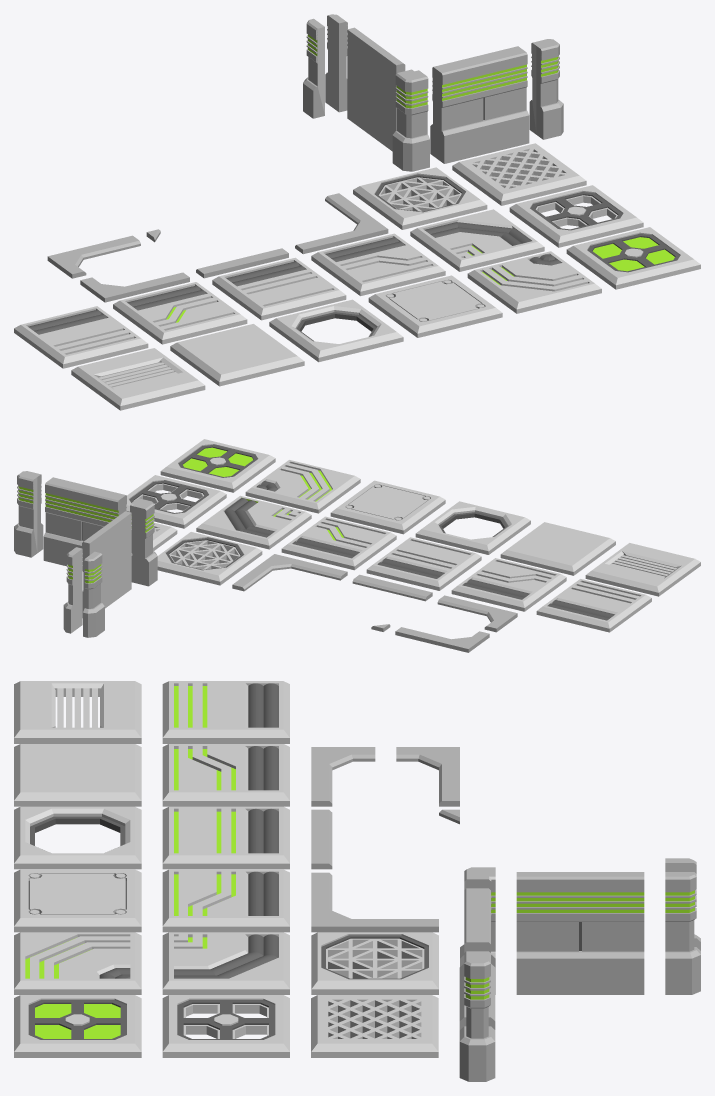
The model's file is floor tiles parts.fbx.
3 views of the same model, one above another, from view 1: azimuth 30°, elevation 25°; view 2: azimuth 150°, elevation 25°; view 3: azimuth 270°, elevation 25° (orthographic). The views are drawn at different scales.
Visible parts, largest first — view 1: Component_17_2, Component_8_1, Component_9_1, Component_25_1, Component_2_1, Component_2_2, Component_3_1, Component_1_1, Component_23_1, Component_4_1, Component_6_1, Component_22_1 (+14 smaller); view 2: Component_17_1, Component_1_1, Component_2_1, Component_2_2, Component_8_1, Component_23_1, Component_4_1, Component_26_1, Component_6_1, Component_9_1, Component_3_1, Component_22_1 (+14 smaller); view 3: Component_17_3, Component_2_2, Component_26_1, Component_9_1, Component_2_1, Component_1_1, Component_23_1, Component_25_1, Component_3_1, Component_8_1, Component_22_1, Component_4_1 (+13 smaller).
Boxes of the visible parts, x1=… form: Component_17_2: x1=437, y1=49, x2=529, y2=163; Component_8_1: x1=467, y1=251, x2=601, y2=313; Component_9_1: x1=212, y1=257, x2=346, y2=320; Component_25_1: x1=452, y1=143, x2=586, y2=205; Component_2_1: x1=113, y1=282, x2=247, y2=344; Component_2_2: x1=311, y1=233, x2=445, y2=296; Component_3_1: x1=14, y1=306, x2=148, y2=368; Component_1_1: x1=170, y1=324, x2=304, y2=386; Component_23_1: x1=566, y1=227, x2=700, y2=289; Component_4_1: x1=410, y1=209, x2=544, y2=271; Component_6_1: x1=71, y1=348, x2=205, y2=410; Component_22_1: x1=353, y1=167, x2=487, y2=229; Component_17_1: x1=43, y1=480, x2=122, y2=566; Component_1_1: x1=500, y1=522, x2=615, y2=575; Component_2_1: x1=451, y1=558, x2=566, y2=611; Component_2_2: x1=281, y1=516, x2=396, y2=570; Component_8_1: x1=245, y1=460, x2=360, y2=513; Component_23_1: x1=160, y1=439, x2=275, y2=492; Component_4_1: x1=196, y1=495, x2=311, y2=549; Component_26_1: x1=330, y1=480, x2=445, y2=534; Component_6_1: x1=585, y1=543, x2=700, y2=596; Component_9_1: x1=366, y1=537, x2=481, y2=590; Component_3_1: x1=536, y1=579, x2=651, y2=632; Component_22_1: x1=157, y1=532, x2=262, y2=585; Component_17_3: x1=516, y1=872, x2=644, y2=994; Component_2_2: x1=162, y1=869, x2=289, y2=932; Component_26_1: x1=14, y1=869, x2=141, y2=932; Component_9_1: x1=162, y1=806, x2=289, y2=869; Component_2_1: x1=162, y1=744, x2=289, y2=806; Component_1_1: x1=14, y1=744, x2=141, y2=806; Component_23_1: x1=14, y1=995, x2=141, y2=1057; Component_25_1: x1=311, y1=995, x2=438, y2=1057; Component_3_1: x1=162, y1=681, x2=289, y2=743; Component_8_1: x1=14, y1=932, x2=141, y2=994; Component_22_1: x1=311, y1=932, x2=438, y2=994; Component_4_1: x1=162, y1=932, x2=289, y2=994.
Size of the model in its own units: 291 by 40 by 215.
